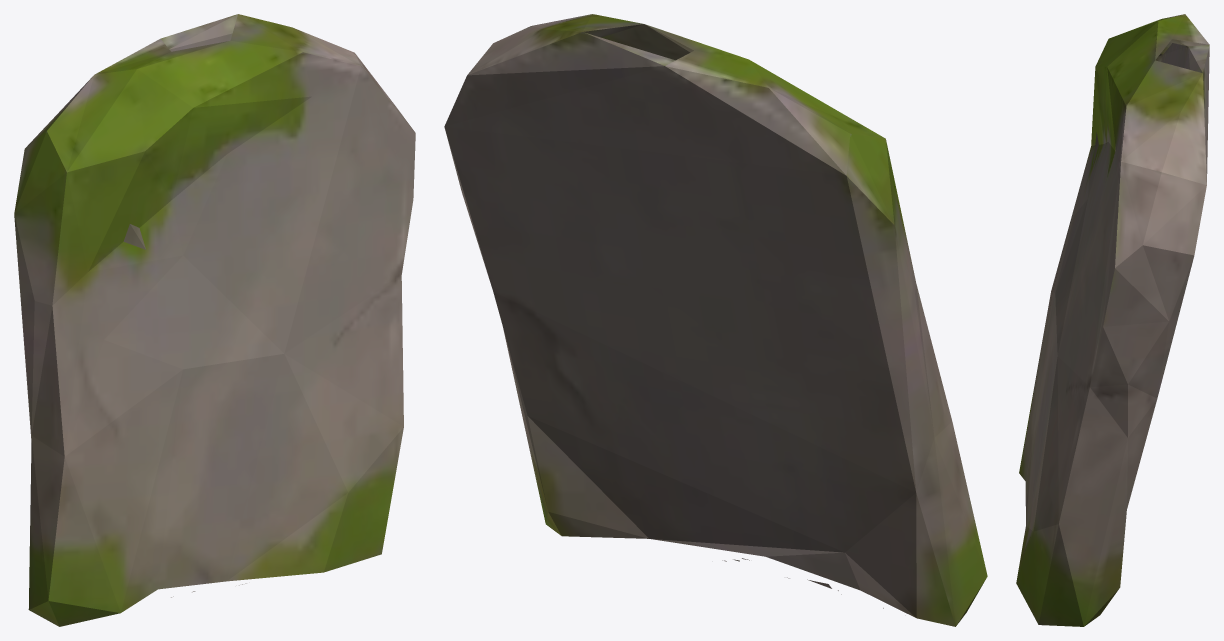
The model's file is gravestone-a.glb.
The picture shows the model from 3 angles, left to right: view 1: azimuth 30°, elevation 25°; view 2: azimuth 150°, elevation 25°; view 3: azimuth 270°, elevation 25°; orthographic projection. The views are drawn at different scales.
Visible parts, largest first — view 1: gravestone-a; view 2: gravestone-a; view 3: gravestone-a.
Part boxes in pixels (bbox=[...]): gravestone-a: bbox=[14, 14, 415, 626]; gravestone-a: bbox=[444, 14, 987, 626]; gravestone-a: bbox=[1016, 14, 1209, 626].
Size of the model in its own units: 1.03 by 1.22 by 0.4112.
1 material, 1 textured.
